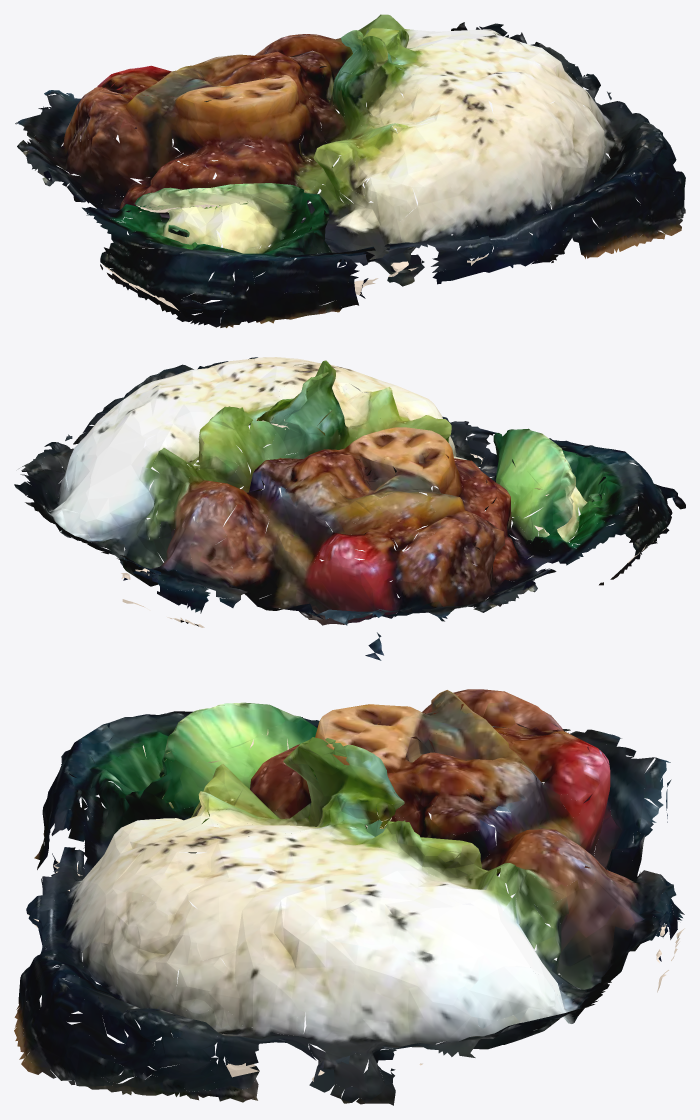
Rendered from lunch-combo.glb.
3 renders of one model, top to bottom at view 1: azimuth 30°, elevation 25°; view 2: azimuth 150°, elevation 25°; view 3: azimuth 270°, elevation 25°, orthographic. The views are drawn at different scales.
Visible parts, largest first — view 1: Object_3, Object_2, Object_4; view 2: Object_3, Object_4, Object_2; view 3: Object_3, Object_4, Object_2.
Part boxes in pixels (bbox=[...]): Object_3: bbox=[15, 14, 685, 327]; Object_2: bbox=[42, 29, 685, 327]; Object_4: bbox=[17, 14, 667, 316]; Object_3: bbox=[14, 357, 685, 627]; Object_4: bbox=[20, 359, 685, 625]; Object_2: bbox=[19, 357, 677, 660]; Object_3: bbox=[14, 690, 684, 1103]; Object_4: bbox=[22, 689, 684, 1100]; Object_2: bbox=[21, 705, 678, 1105].
Bounding box in the file's own units: 0.2199 × 0.063 × 0.1809.
3 materials, 3 textured.
